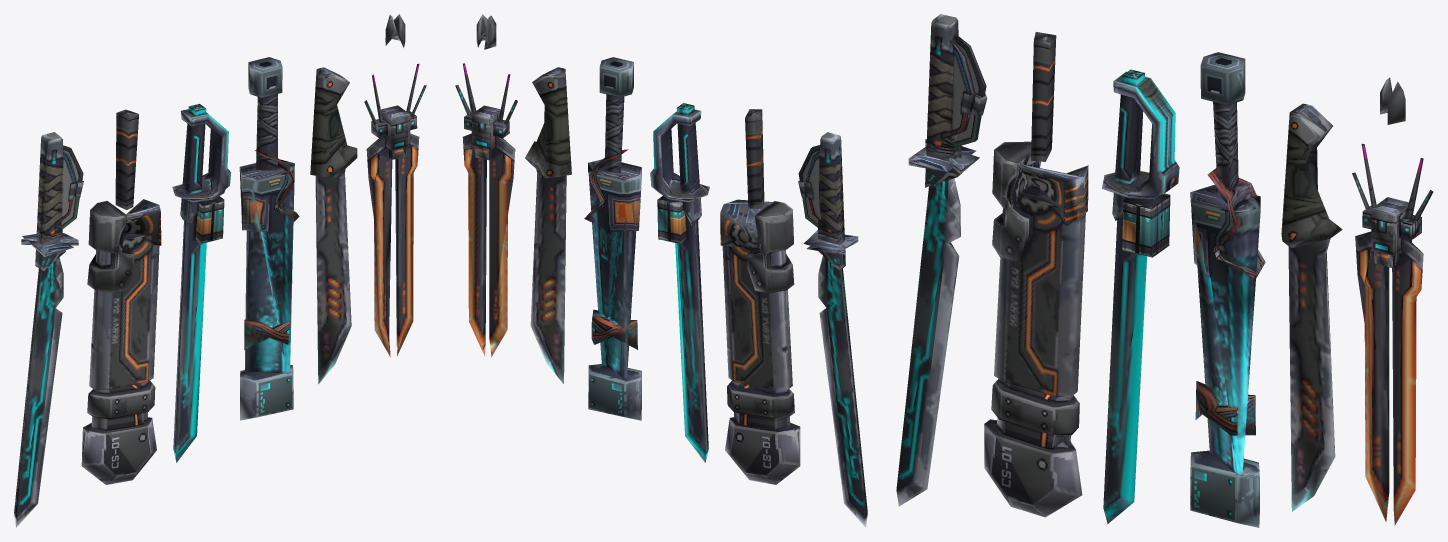
File: neon_arsenal_ross_v1.glb
The picture shows the model from 3 angles, left to right: view 1: azimuth 30°, elevation 25°; view 2: azimuth 150°, elevation 25°; view 3: azimuth 330°, elevation 25°; orthographic projection. The views are drawn at different scales.
Bounding box in the file's own units: 0.9502 × 0.9292 × 0.0947.
Materials: 1 (1 with a texture image).
